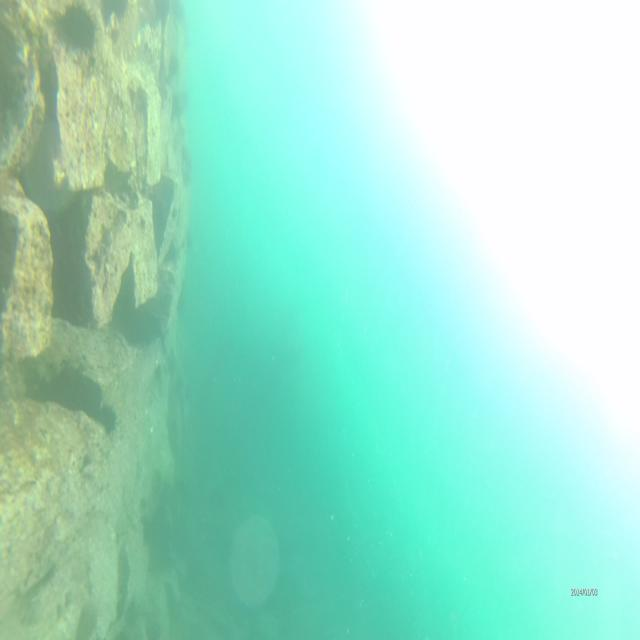echinus: (61, 0, 97, 51), (98, 400, 119, 432), (167, 50, 181, 79)
